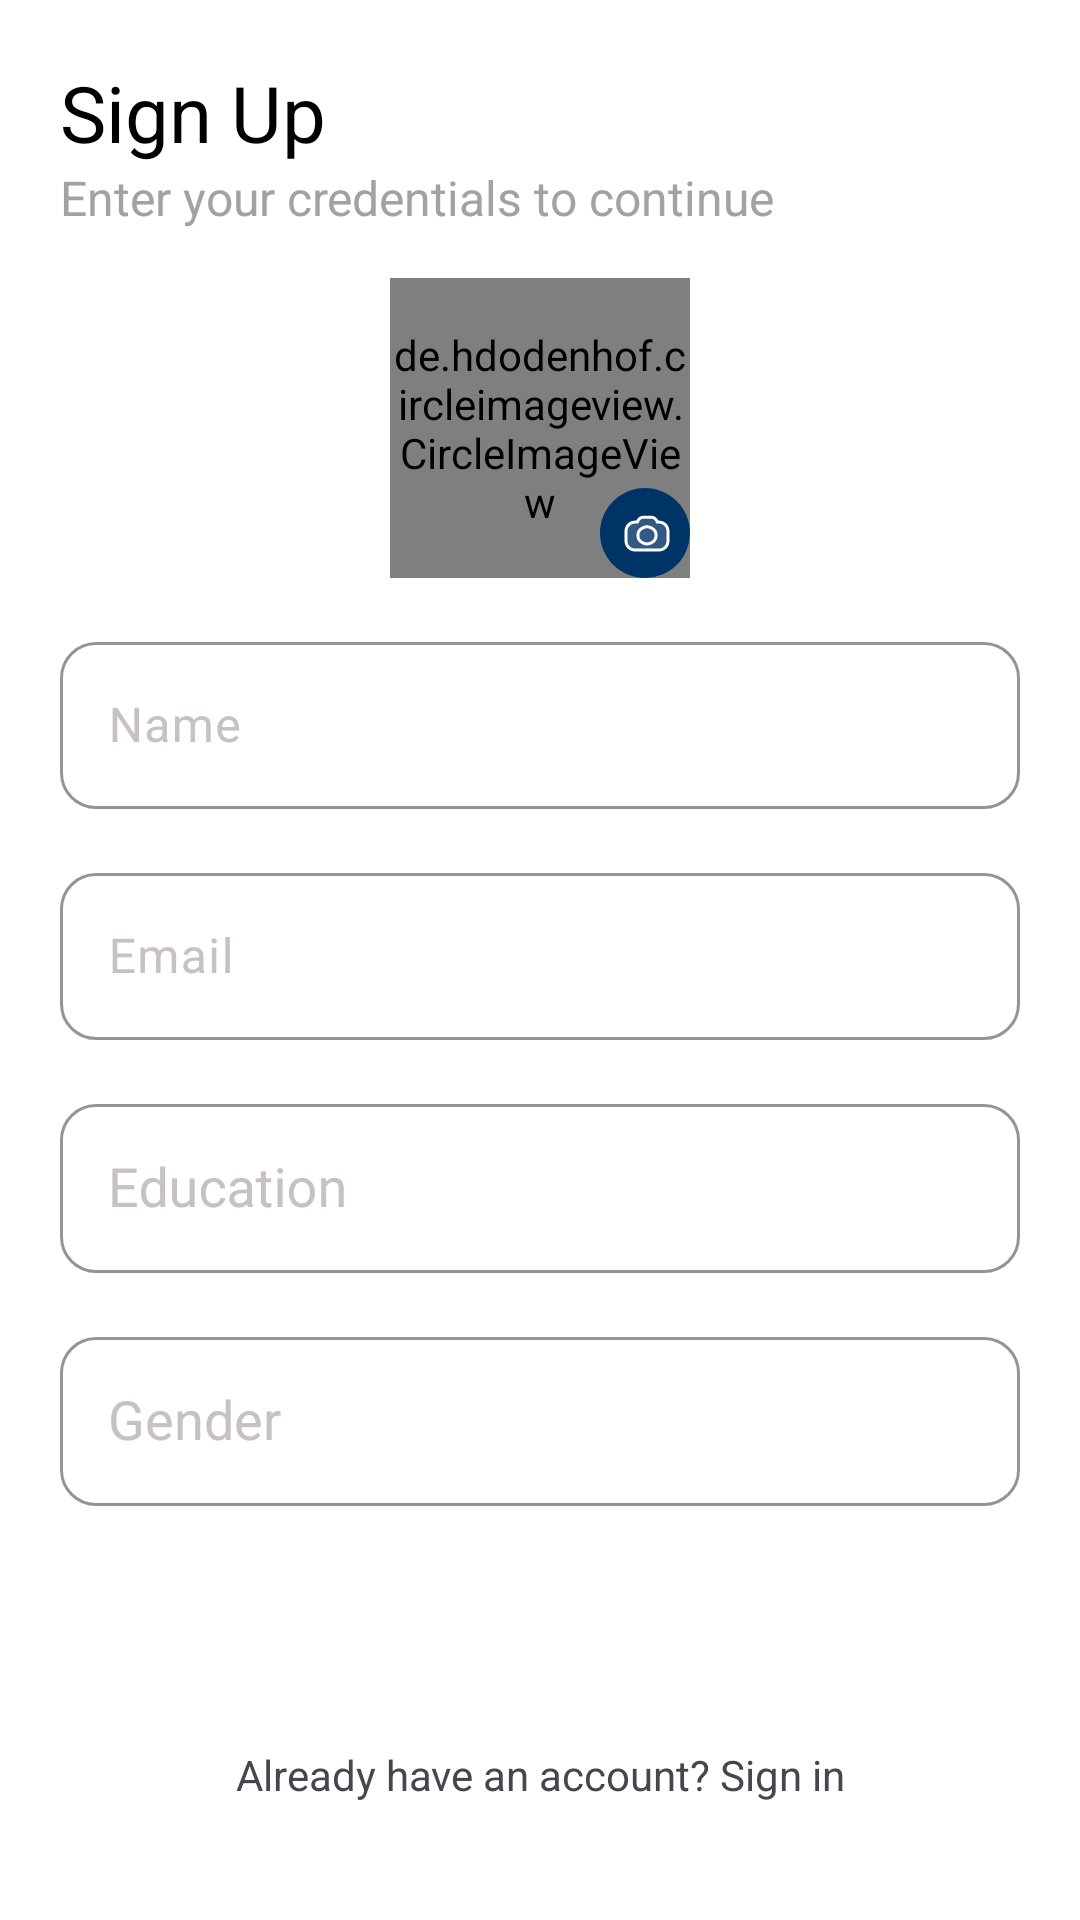

Named icons in this screenshot (1080 × 1920) and their centers, point (x, y):
camera: point (645, 533)
